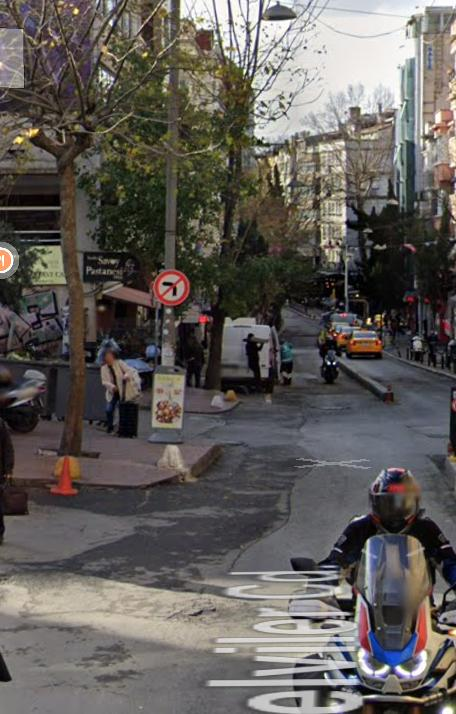leftturnsareforbidden: (154, 268, 191, 305)
